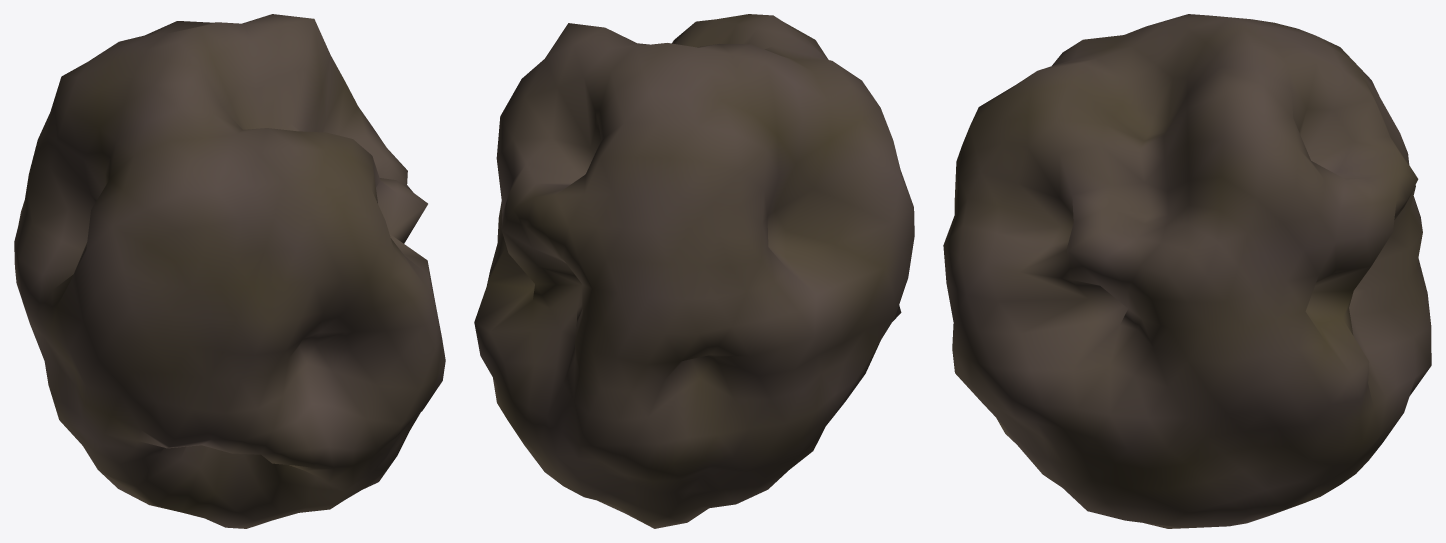
File: asteroid_07.glb
The picture shows the model from 3 angles, left to right: view 1: azimuth 30°, elevation 25°; view 2: azimuth 150°, elevation 25°; view 3: azimuth 270°, elevation 25°; orthographic projection.
Parts seen in each view (by area): view 1: Asteroid_07; view 2: Asteroid_07; view 3: Asteroid_07.
Boxes of the visible parts, left/top/right/bottom form: Asteroid_07: left=14, top=14, right=445, bottom=528; Asteroid_07: left=474, top=14, right=914, bottom=528; Asteroid_07: left=943, top=14, right=1431, bottom=528.
Bounding box in the file's own units: 1.65 × 2.09 × 1.92.
